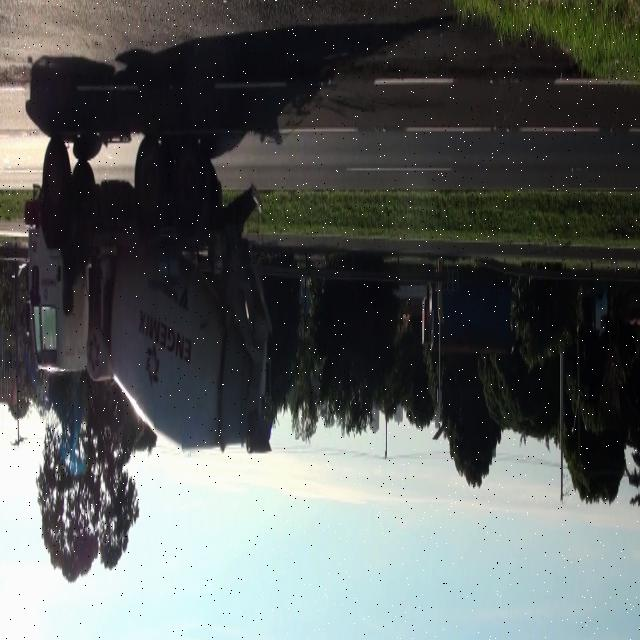-axle: (135, 143, 167, 219), (172, 138, 199, 228), (43, 142, 70, 218)
